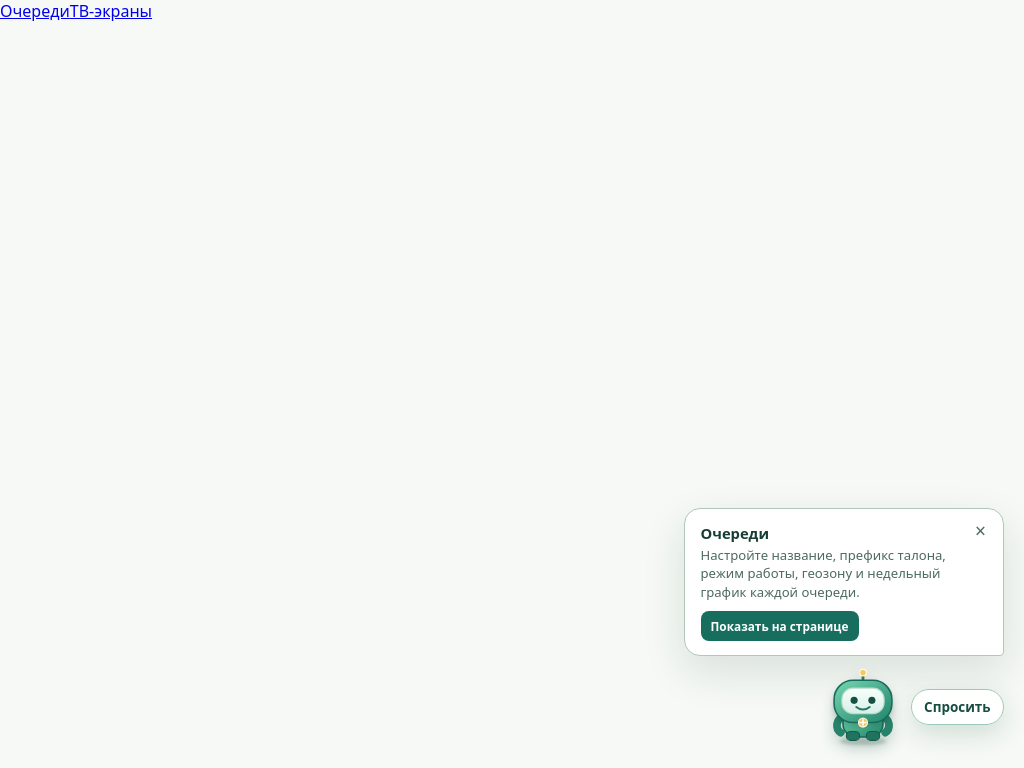
AssistantPet › closes advice from the previous page when the user navigates independently
Click the button with aria-label "Открыть помощника" at [913, 706], box [823,666,1004,748]
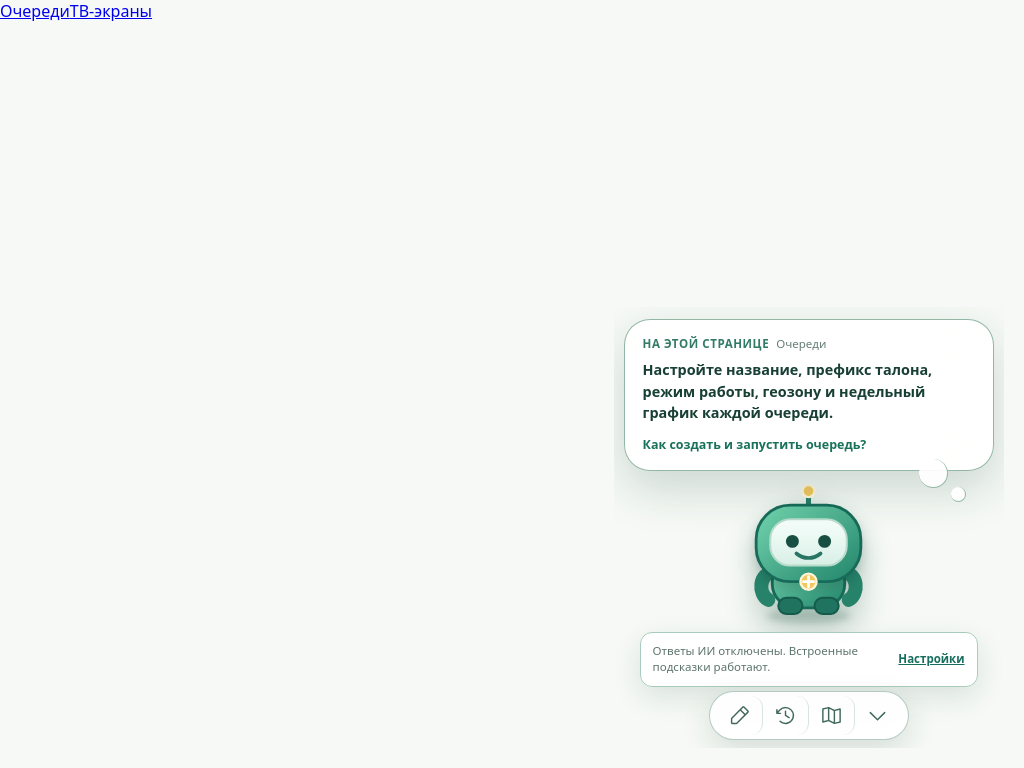
expect the dialog named "Навигатор" is shown: met, box [614,307,1004,748]
Click the link "ТВ-экраны" at [111, 11], box [70,0,152,22]
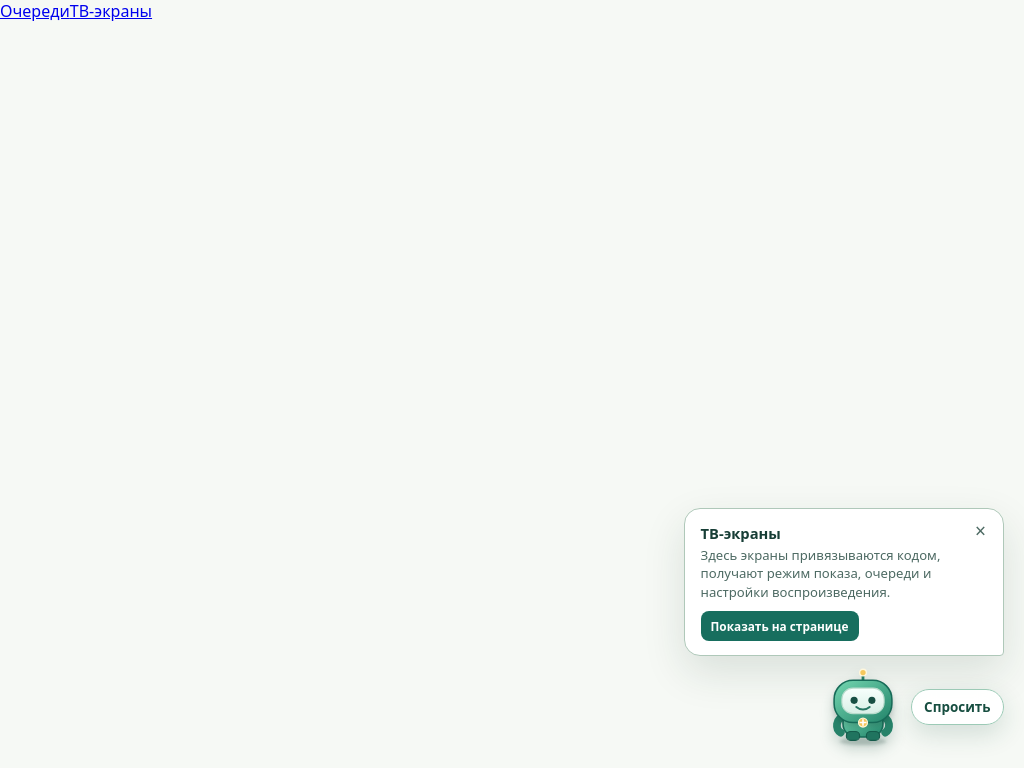
expect the message with class "assistant-pet__bubble" shows "ТВ-экраны": met, box [700,523,781,543]
